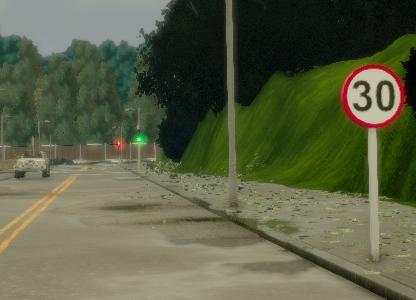Speed_30: (343, 62, 405, 131)
